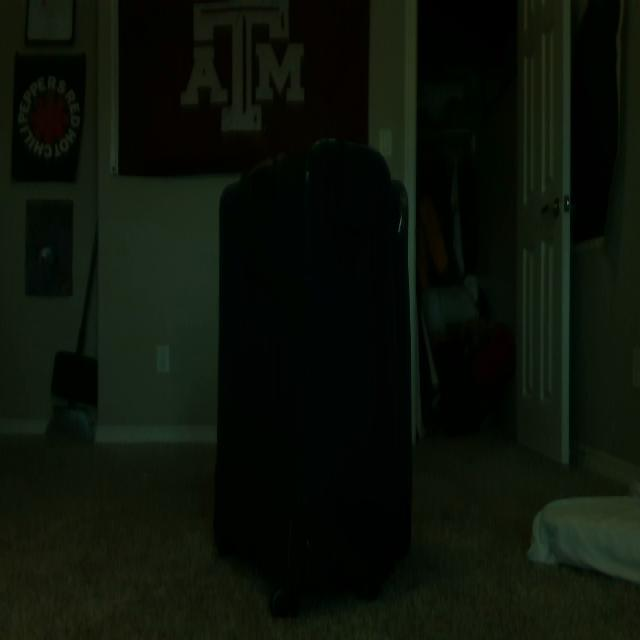suitcase: (213, 136, 416, 612)
